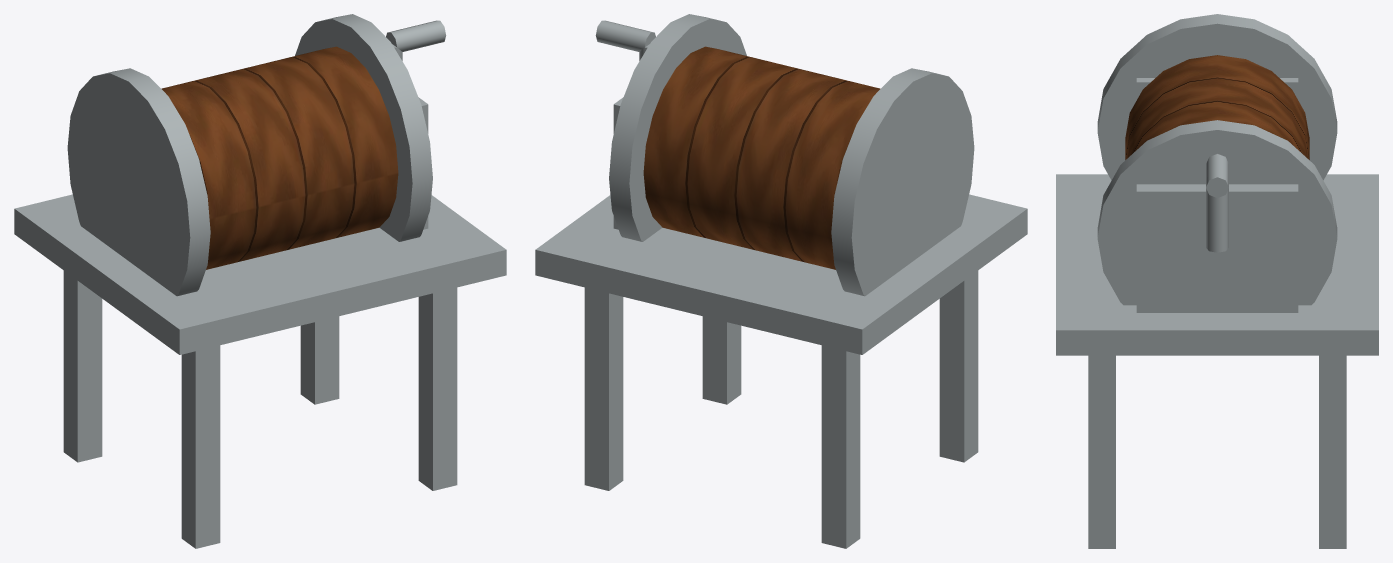
The model's file is prehistoric-survivor-settlement-communal-haul-winch-2ab5d2d1__23224.glb.
The picture shows the model from 3 angles, left to right: view 1: azimuth 30°, elevation 25°; view 2: azimuth 150°, elevation 25°; view 3: azimuth 270°, elevation 25°; orthographic projection. The views are drawn at different scales.
Parts seen in each view (by area): view 1: communal-haul-winch; view 2: communal-haul-winch; view 3: communal-haul-winch.
Part boxes in pixels (x1,y1,x2,y2): communal-haul-winch: (14, 14, 506, 548); communal-haul-winch: (535, 14, 1027, 548); communal-haul-winch: (1056, 14, 1378, 548).
Bounding box in the file's own units: 0.84 × 0.98 × 0.7.
2 materials, 1 textured.
